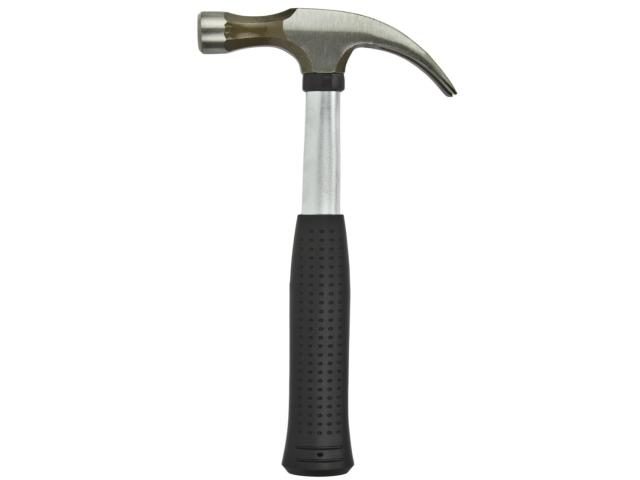hammer: (197, 7, 458, 476)
